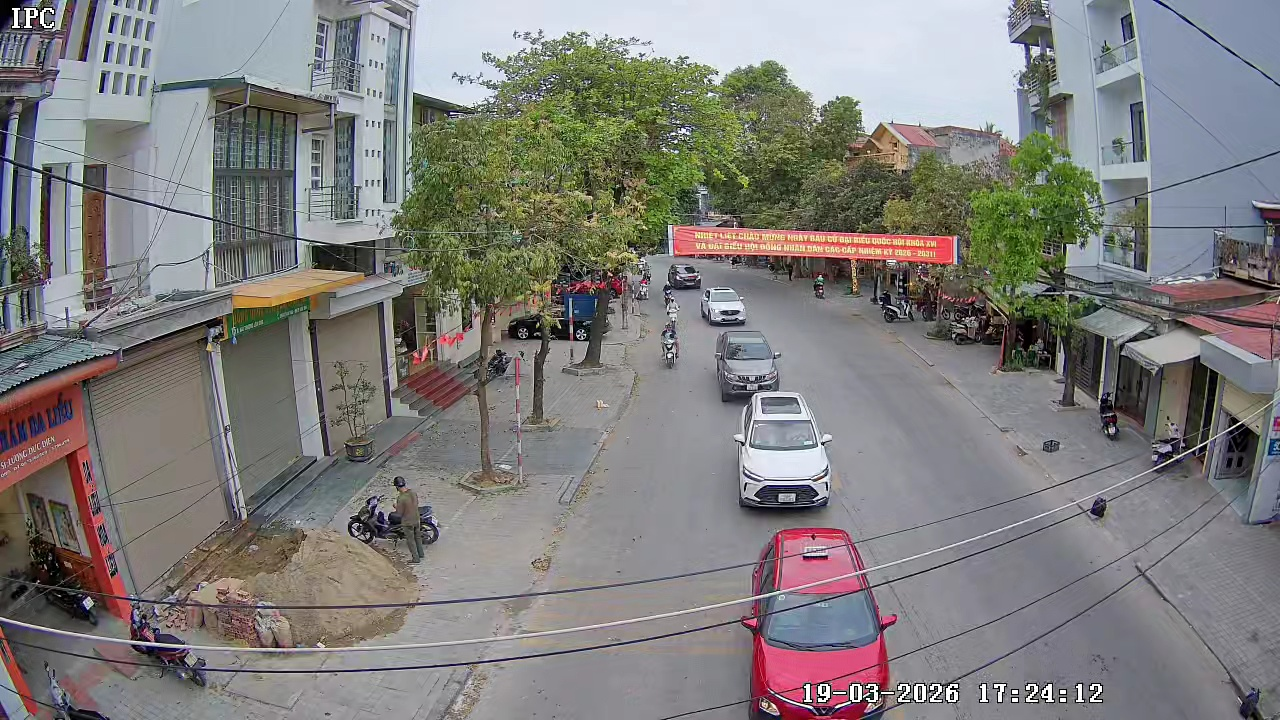car: (742, 526, 899, 719), (733, 391, 834, 512), (713, 326, 784, 403), (700, 286, 748, 327), (671, 264, 701, 290)
motorbike: (346, 476, 441, 561), (659, 323, 679, 368), (661, 287, 679, 313)
